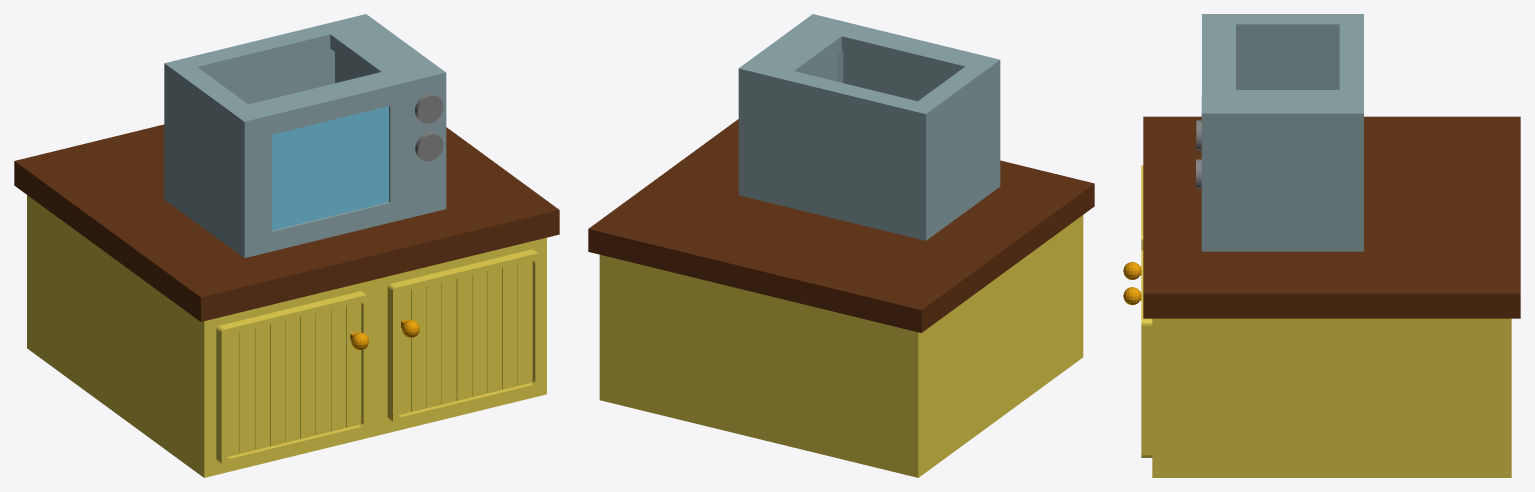
The model's file is microwave.fbx.
The picture shows the model from 3 angles, left to right: view 1: azimuth 30°, elevation 25°; view 2: azimuth 150°, elevation 25°; view 3: azimuth 270°, elevation 25°; orthographic projection. The views are drawn at different scales.
Parts seen in each view (by area): view 1: encimera, microwave, microwavedoor; view 2: encimera, microwave, microwavedoor; view 3: encimera, microwave, microwavedoor.
Boxes of the visible parts, x1,y1,x2,y2 form: encimera: (14, 124, 559, 477); microwave: (164, 14, 446, 254); microwavedoor: (239, 78, 408, 258); encimera: (588, 119, 1094, 477); microwave: (738, 14, 995, 240); microwavedoor: (843, 22, 1000, 189); encimera: (1123, 116, 1520, 477); microwave: (1196, 14, 1363, 251); microwavedoor: (1202, 14, 1211, 95).
Bounding box in the file's own units: 528 × 453 × 500.
